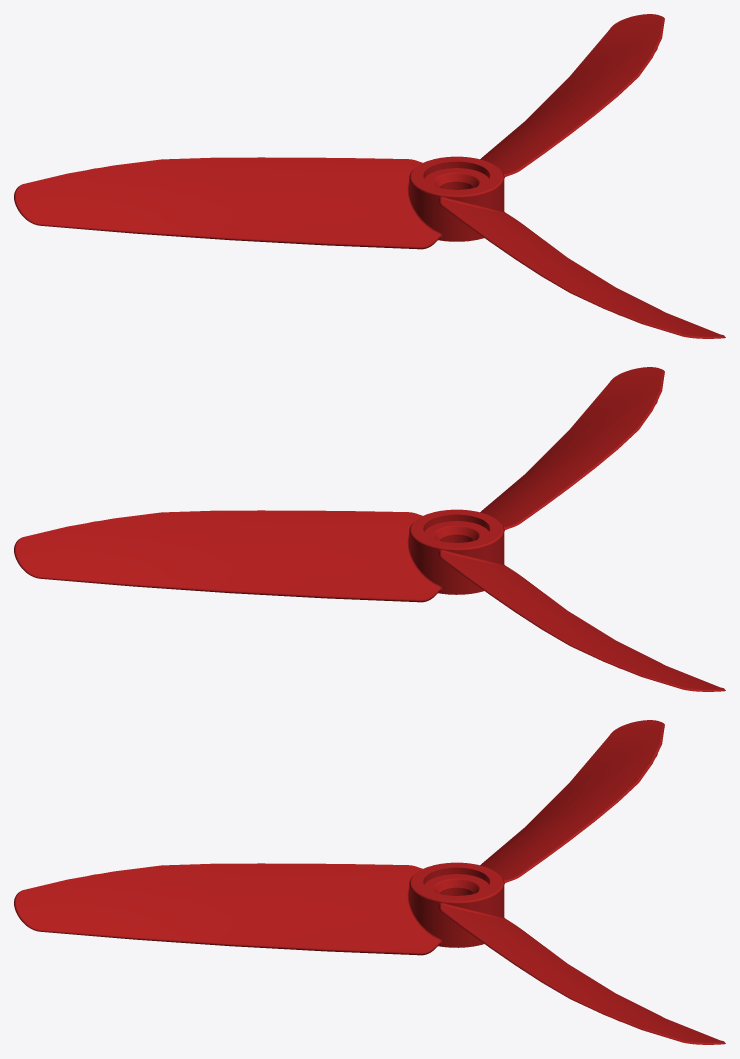
The model's file is propellers.dae.
The picture shows the model from 3 angles, top to bottom: view 1: azimuth 30°, elevation 25°; view 2: azimuth 150°, elevation 25°; view 3: azimuth 270°, elevation 25°; orthographic projection.
Visible parts, largest first — view 1: ID2; view 2: ID2; view 3: ID2.
Part boxes in pixels (x1,y1,x2,y2): ID2: [14, 14, 725, 338]; ID2: [14, 367, 725, 691]; ID2: [14, 720, 725, 1044].
Size of the model in its own units: 0.1104 by 0.1011 by 0.00791.
